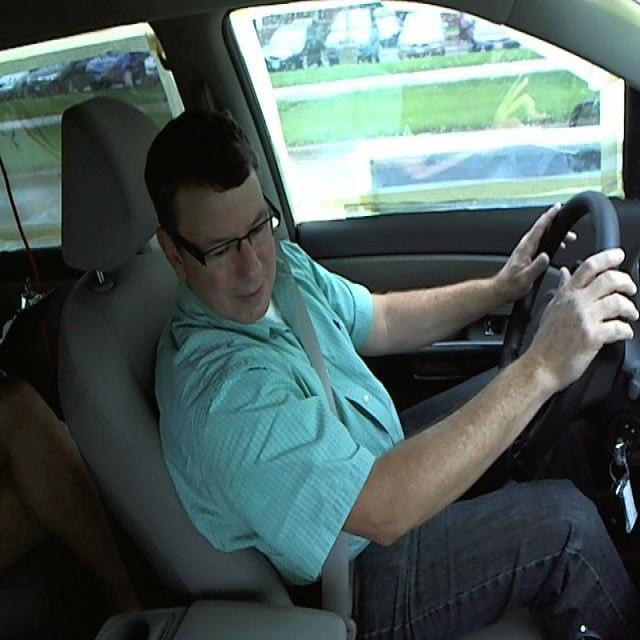seatbelt: (292, 297, 364, 584)
